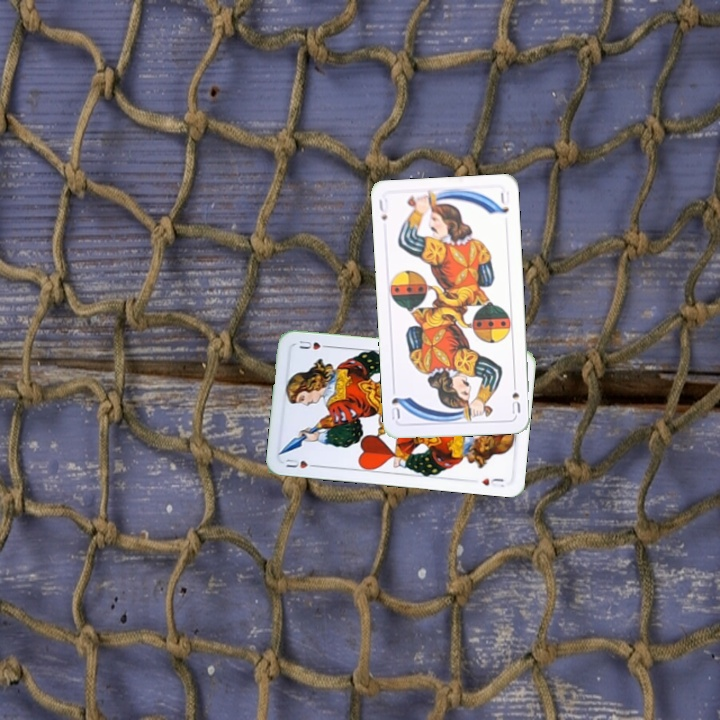HU: (282, 455, 321, 471)
SU: (508, 377, 523, 417), (375, 195, 391, 223)
